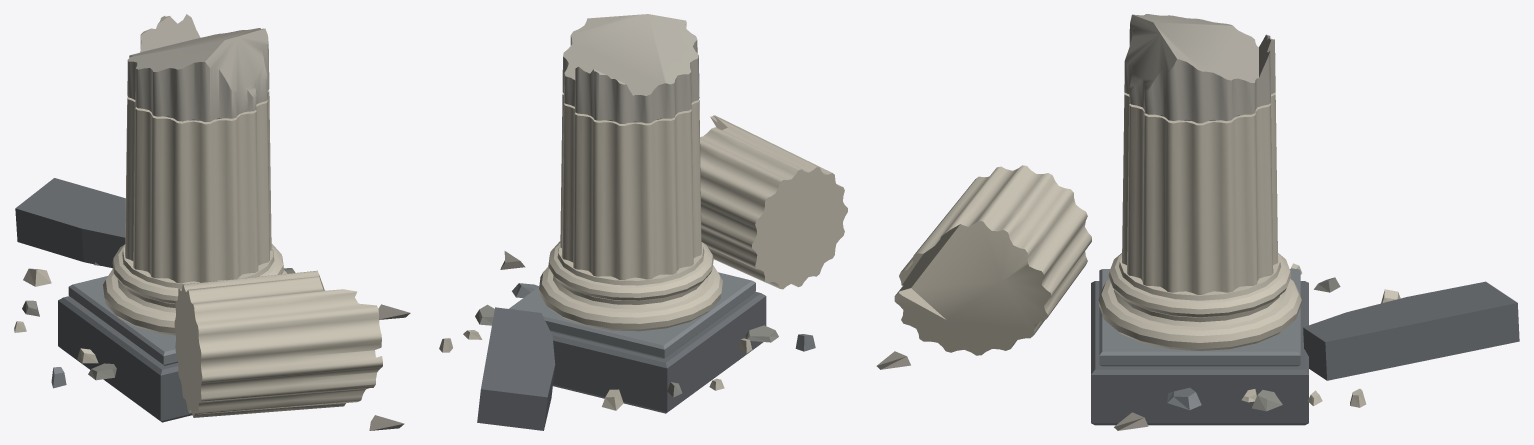
The model's file is SM_LPD_Struct_PillarBroken_01.fbx.
3 renders of one model, left to right at view 1: azimuth 30°, elevation 25°; view 2: azimuth 150°, elevation 25°; view 3: azimuth 270°, elevation 25°, orthographic. The views are drawn at different scales.
Visible parts, largest first — view 1: SM_LPD_Struct_PillarBroken_01; view 2: SM_LPD_Struct_PillarBroken_01; view 3: SM_LPD_Struct_PillarBroken_01.
Boxes of the visible parts, left/top/right/bottom form: SM_LPD_Struct_PillarBroken_01: left=14, top=14, right=410, bottom=430; SM_LPD_Struct_PillarBroken_01: left=439, top=14, right=847, bottom=430; SM_LPD_Struct_PillarBroken_01: left=876, top=14, right=1519, bottom=430.
Size of the model in its own units: 2.03 by 1.94 by 3.13.
